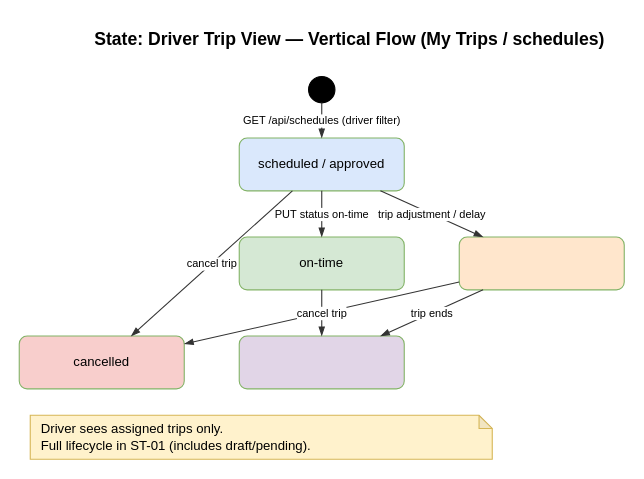
This 644x479 diagram has some shape labels left out. The shapes that lost their labels are listed below. From the top down, each one's box as (x1, y1, x2, y2) in pixels, then its label:
(458, 236, 624, 290): delayed
(238, 335, 404, 389): completed
